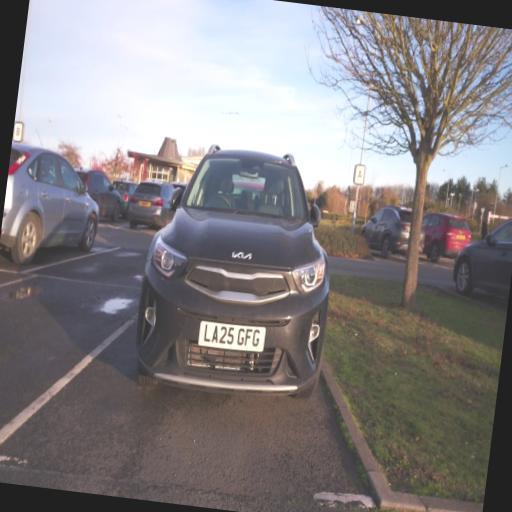numberplates: (199, 322, 265, 352), (139, 201, 151, 206), (457, 235, 465, 240)
